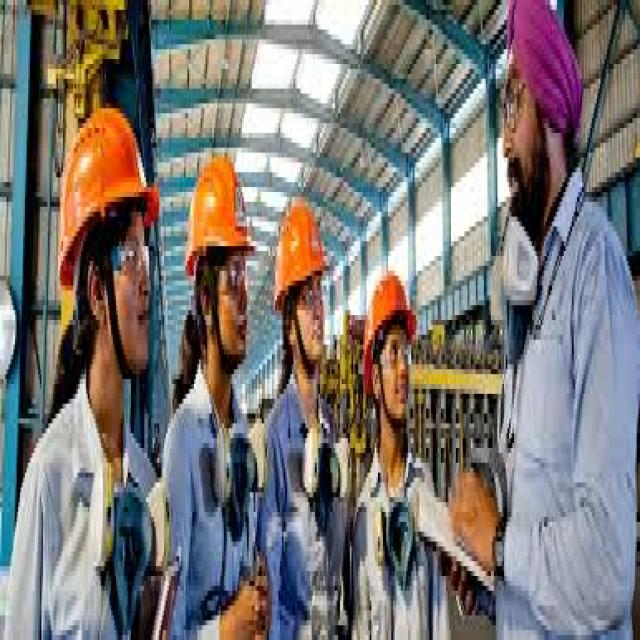Reflective-Jacket: (160, 384, 268, 640)
Safety-Helmet: (53, 98, 163, 280), (182, 142, 257, 280), (358, 261, 420, 379), (270, 187, 327, 310)
